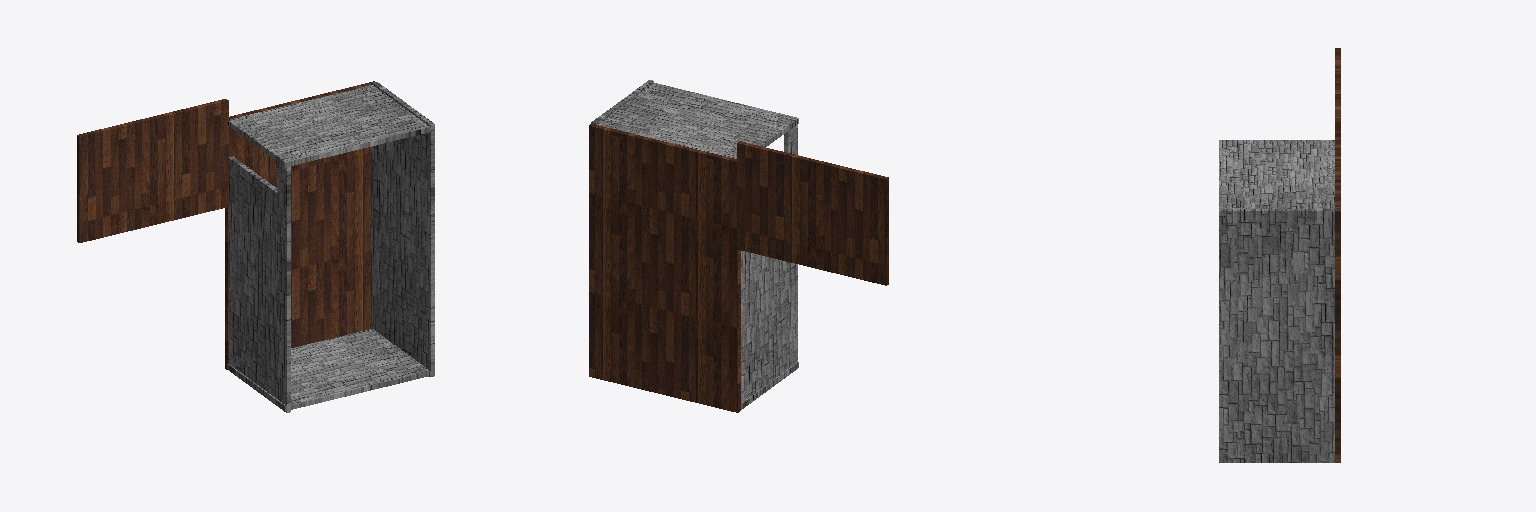
The picture shows the model from 3 angles: view 1: azimuth 30°, elevation 25°; view 2: azimuth 150°, elevation 25°; view 3: azimuth 270°, elevation 25°; orthographic projection.
Parts seen in each view (by area): view 1: floor_Cube.002, floor2_Cube.009, wall1_Cube.004, wall3_Cube.006, wall2_Cube.005, wall4_Cube.007; view 2: floor_Cube.002, floor2_Cube.009, wall2_Cube.005, wall3_Cube.006; view 3: wall1_Cube.004, wall2_Cube.005, floor_Cube.002, floor2_Cube.009.
Part boxes in pixels (left/top/right/bottom): floor_Cube.002: left=225, top=81, right=374, bottom=369; floor2_Cube.009: left=77, top=99, right=228, bottom=242; wall1_Cube.004: left=372, top=82, right=434, bottom=376; wall3_Cube.006: left=229, top=156, right=290, bottom=412; wall2_Cube.005: left=227, top=85, right=430, bottom=167; wall4_Cube.007: left=227, top=329, right=430, bottom=410; floor_Cube.002: left=589, top=124, right=740, bottom=412; floor2_Cube.009: left=737, top=141, right=888, bottom=285; wall2_Cube.005: left=597, top=83, right=798, bottom=158; wall3_Cube.006: left=741, top=251, right=797, bottom=409; wall1_Cube.004: left=1219, top=209, right=1334, bottom=462; wall2_Cube.005: left=1219, top=140, right=1334, bottom=208; floor_Cube.002: left=1335, top=140, right=1340, bottom=462; floor2_Cube.009: left=1335, top=48, right=1340, bottom=139.
Bounding box in the file's own units: 9.38 × 8.12 × 3.31.
2 materials, 2 textured.